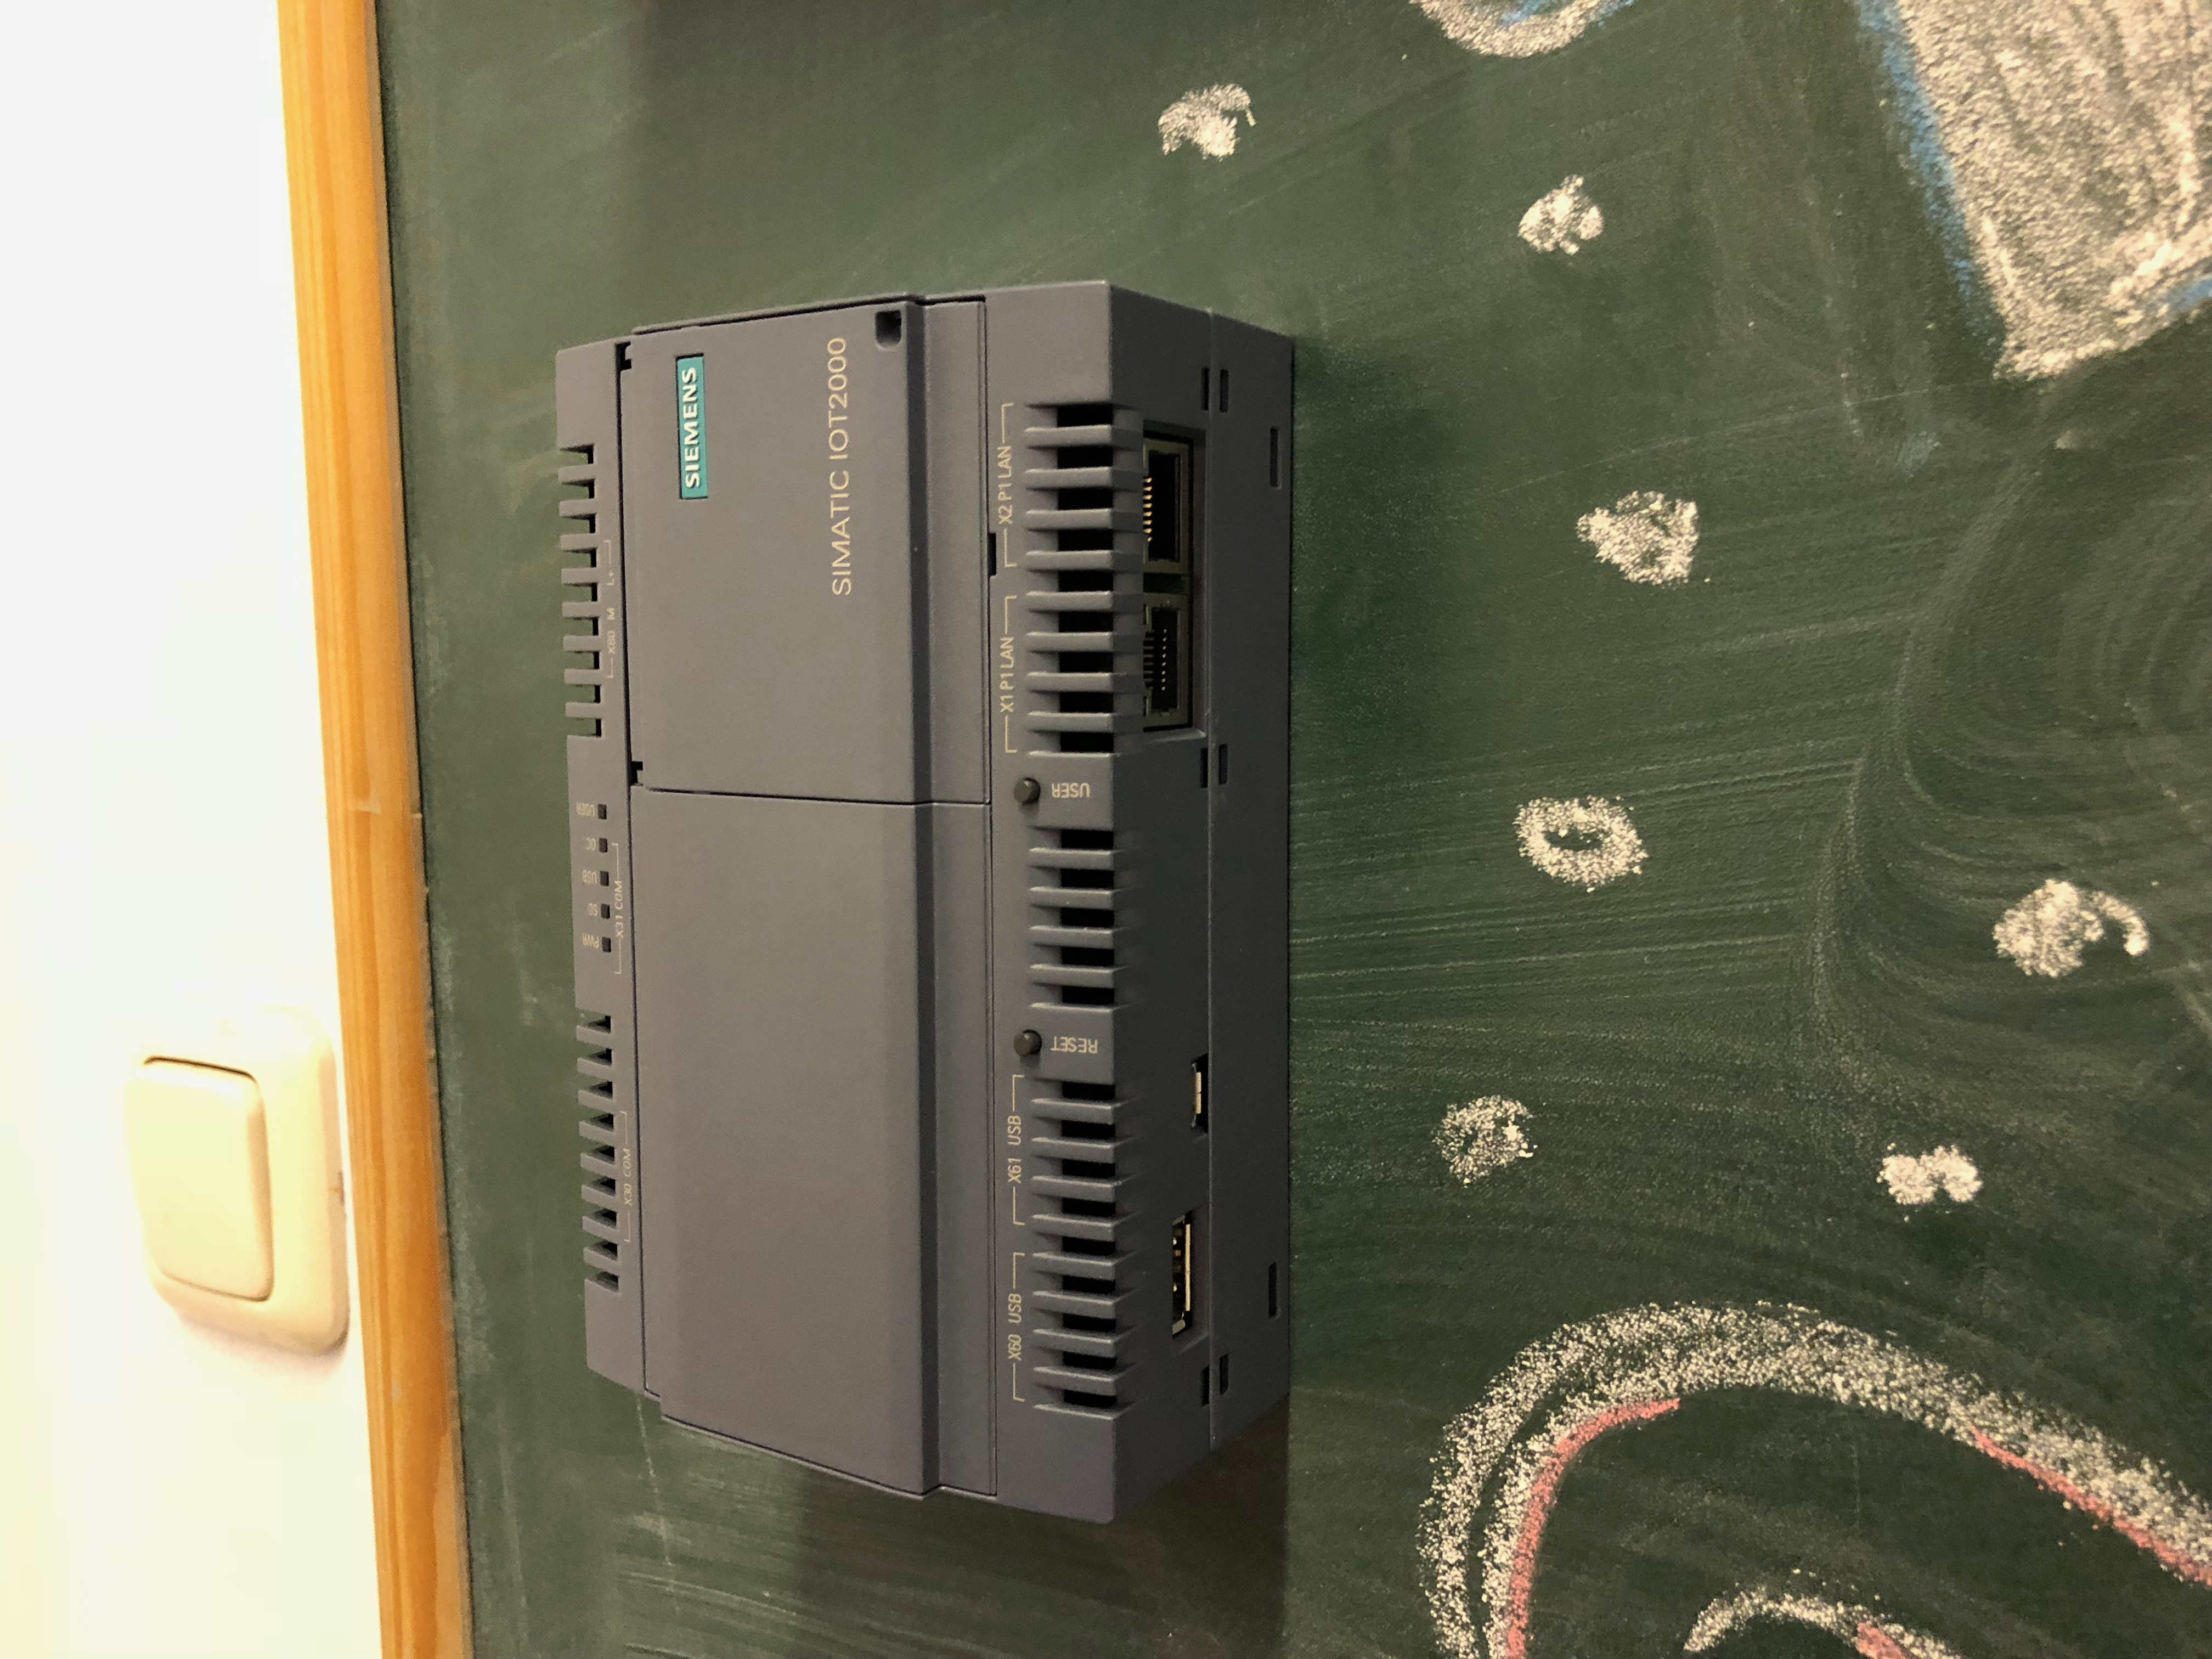device: (554, 281, 1292, 1525)
